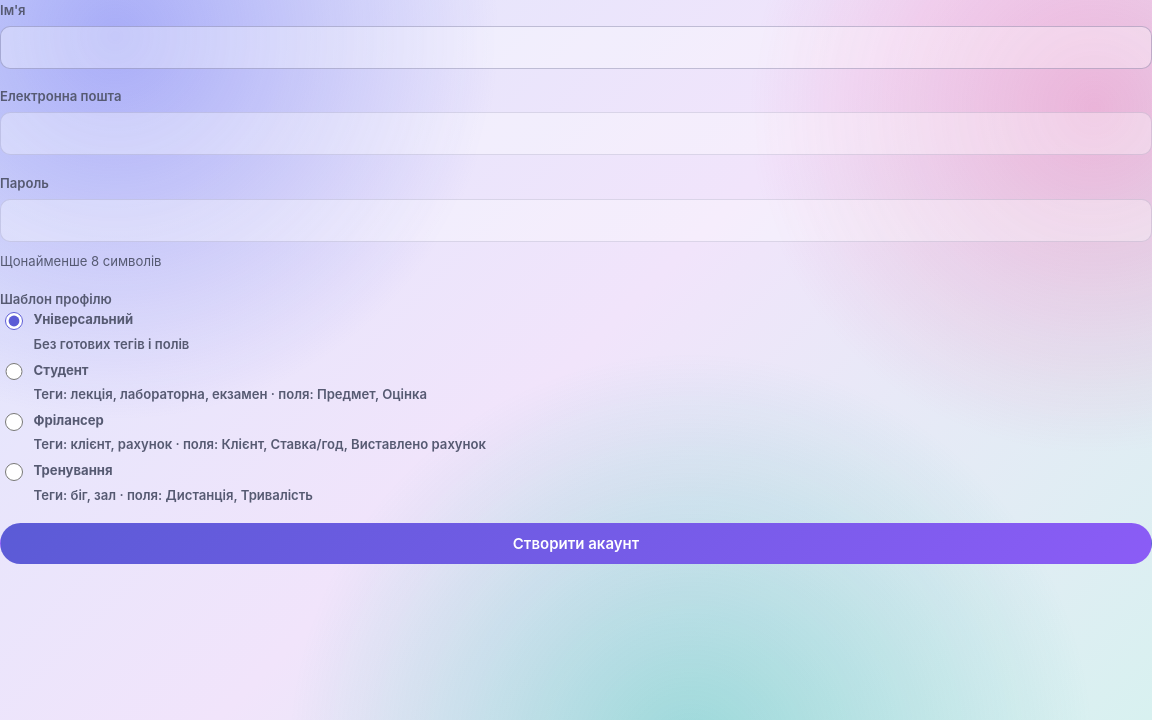
Test: RegisterForm › tells the user when the email is already registered
The width and height of the screenshot is (1152, 720).
Type "Анна" into the field labelled "Ім'я" at x=576, y=47, box left=0, top=26, right=1151, bottom=69
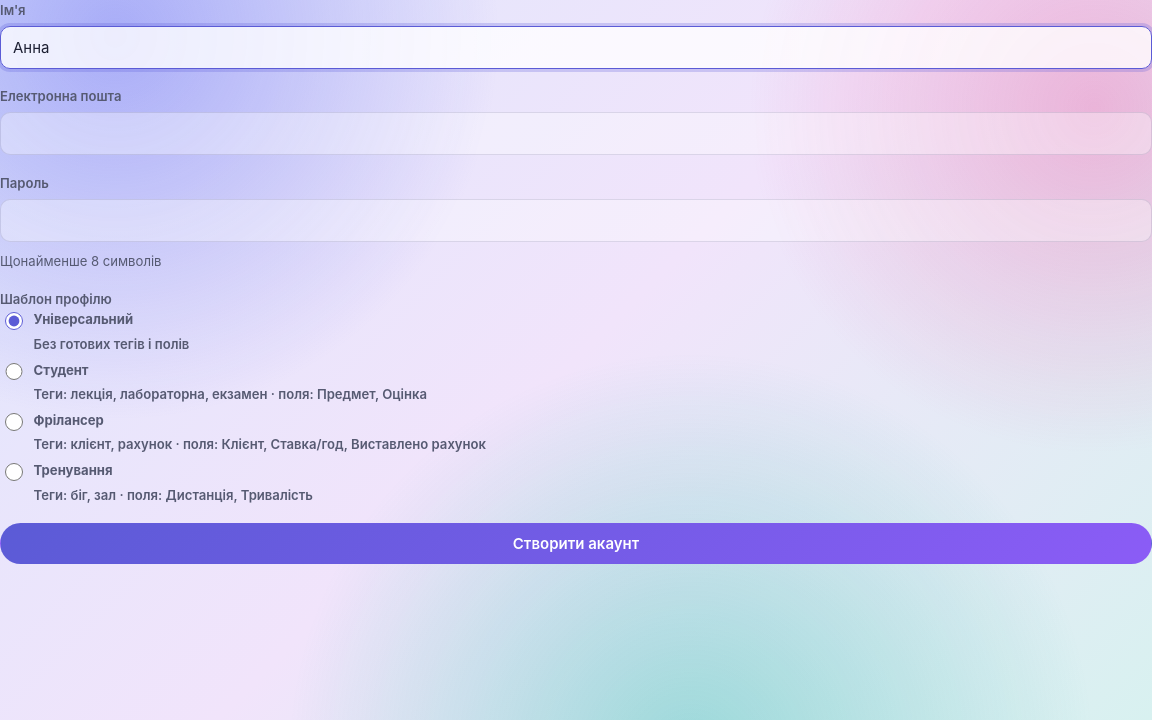
Type "anna@example.com" into the field labelled "Електронна пошта" at x=576, y=134, box left=0, top=112, right=1151, bottom=155
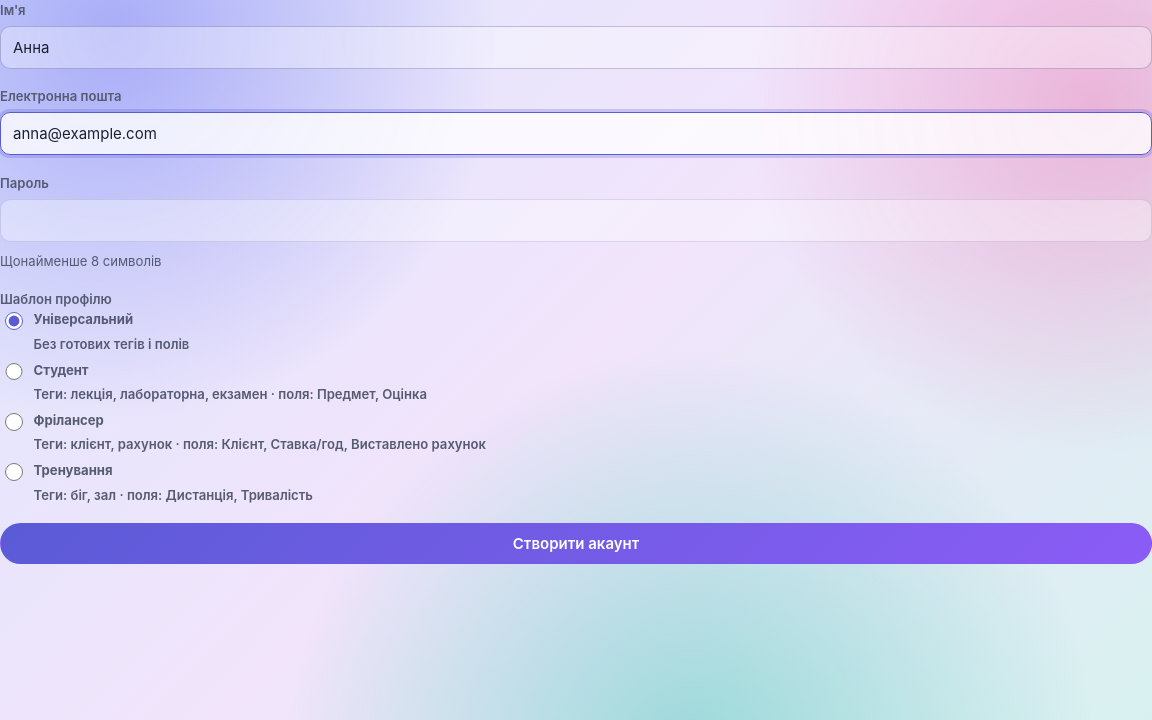
Type "password123" into the password field labelled "Пароль" at x=576, y=220, box left=0, top=199, right=1151, bottom=242
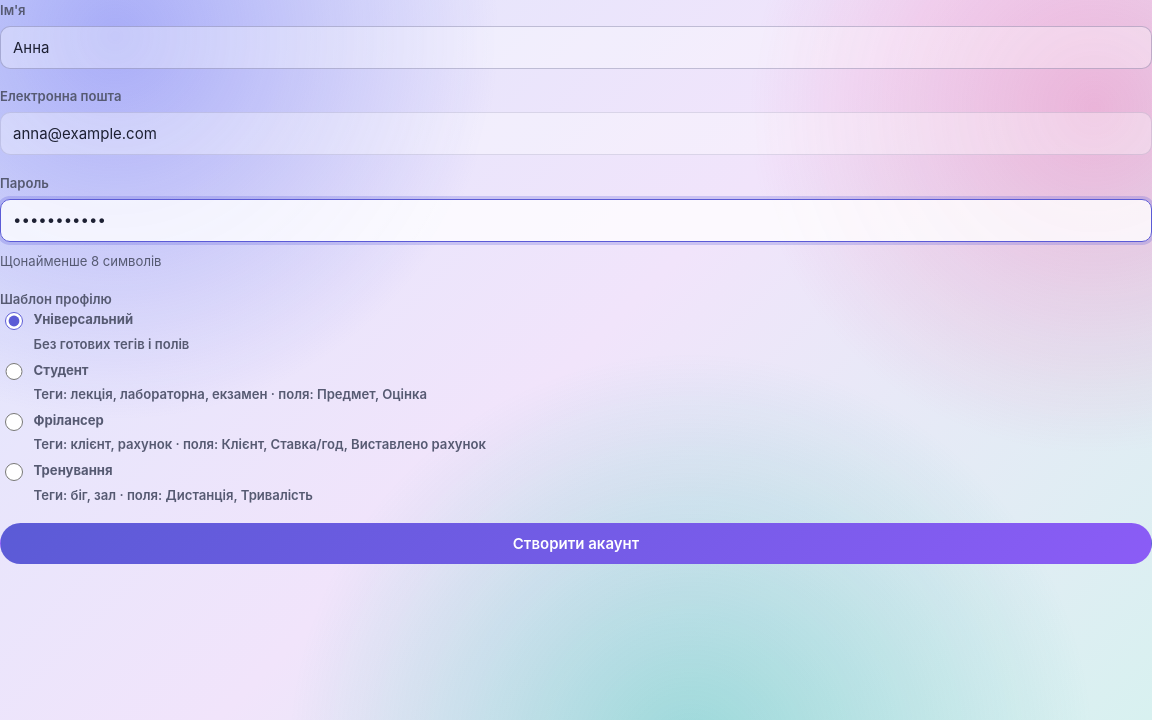
Click the button "Створити акаунт" at x=576, y=543, box left=0, top=522, right=1151, bottom=564
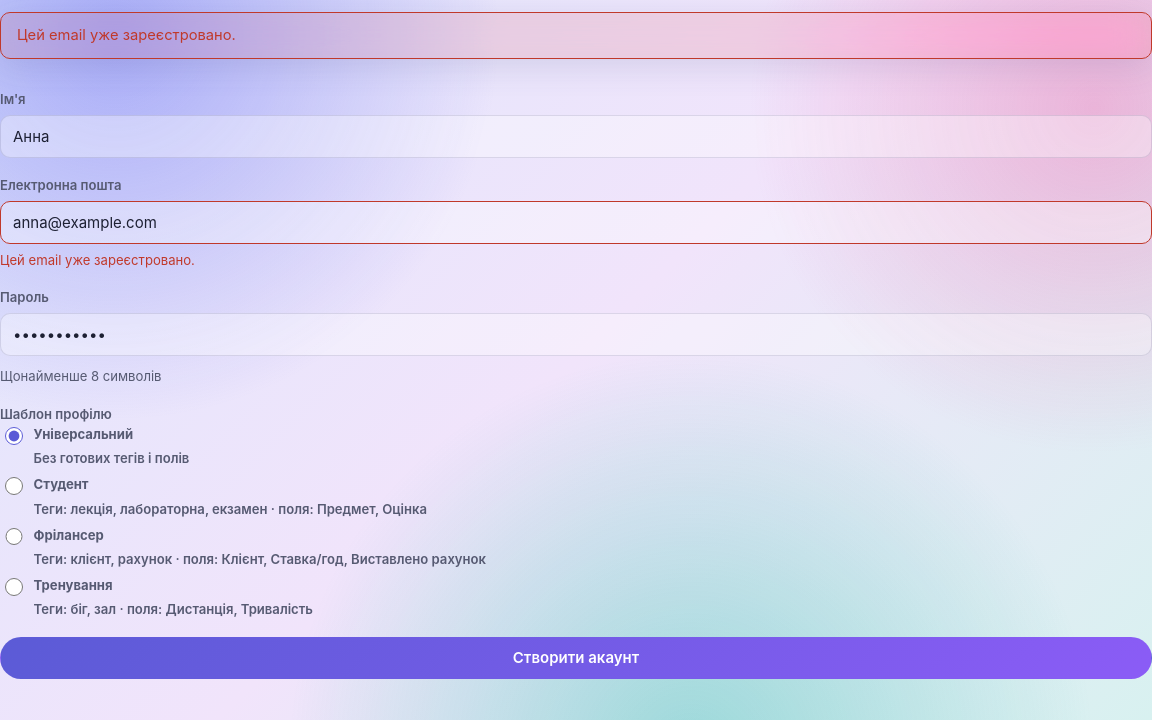
Expected: the 1st text "Цей email уже зареєстровано." is shown, left=0, top=12, right=1151, bottom=59
